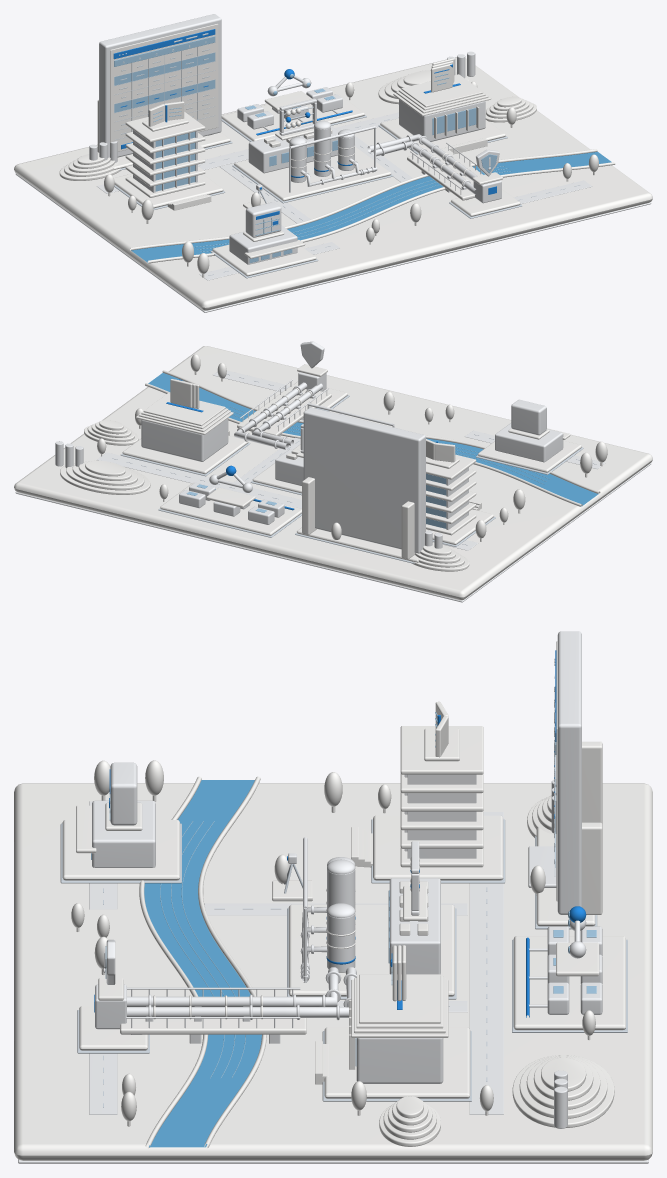
Rendered from white-sandbox.glb.
The picture shows the model from 3 angles, top to bottom: view 1: azimuth 30°, elevation 25°; view 2: azimuth 150°, elevation 25°; view 3: azimuth 270°, elevation 25°; orthographic projection. The views are drawn at different scales.
Visible parts, largest first — view 1: zone_land_body, zone_table_screen, zone_price_body, zone_knowledge_body, zone_report_body, zone_risk_body, zone_table_body, zone_review_body, zone_import_body, zone_import_symbol, zone_knowledge_window, zone_price_symbol (+5 smaller); view 2: zone_land_body, zone_table_body, zone_report_body, zone_risk_body, zone_review_body, zone_knowledge_body, zone_import_body, zone_price_body, zone_import_symbol, zone_review_symbol, zone_report_symbol, zone_knowledge_symbol (+2 smaller); view 3: zone_land_body, zone_report_body, zone_knowledge_body, zone_price_body, zone_table_body, zone_risk_body, zone_review_body, zone_import_body, zone_import_symbol, zone_review_symbol, zone_knowledge_symbol, zone_price_symbol (+3 smaller).
Boxes of the visible parts, x1,y1,x2,y2 form: zone_land_body: (14,51,652,312); zone_table_screen: (110,24,218,153); zone_price_body: (232,120,392,203); zone_knowledge_body: (114,112,225,210); zone_report_body: (378,74,507,154); zone_risk_body: (367,134,522,218); zone_table_body: (97,14,232,170); zone_review_body: (221,87,366,141); zone_import_body: (210,225,318,278); zone_import_symbol: (243,202,284,241); zone_knowledge_window: (155,132,195,191); zone_price_symbol: (275,98,316,140); zone_land_body: (14,346,652,602); zone_table_body: (295,407,425,563); zone_report_body: (120,393,250,476); zone_risk_body: (234,372,349,449); zone_review_body: (158,482,301,537); zone_knowledge_body: (426,454,495,546); zone_import_body: (476,423,583,474); zone_price_body: (250,403,394,495); zone_import_symbol: (508,399,549,439); zone_review_symbol: (206,465,255,507); zone_report_symbol: (170,379,199,408); zone_knowledge_symbol: (426,439,459,468); zone_land_body: (14,760,652,1163); zone_report_body: (315,974,471,1101); zone_knowledge_body: (351,726,505,883); zone_price_body: (287,837,456,999); zone_table_body: (528,631,602,929); zone_risk_body: (77,967,357,1053); zone_review_body: (512,926,627,1032); zone_import_body: (60,800,181,883); zone_import_symbol: (105,762,142,830); zone_review_symbol: (556,906,599,976); zone_knowledge_symbol: (424,701,459,761); zone_price_symbol: (403,841,427,920).
Size of the model in its own units: 34.04 by 9.56 by 25.
